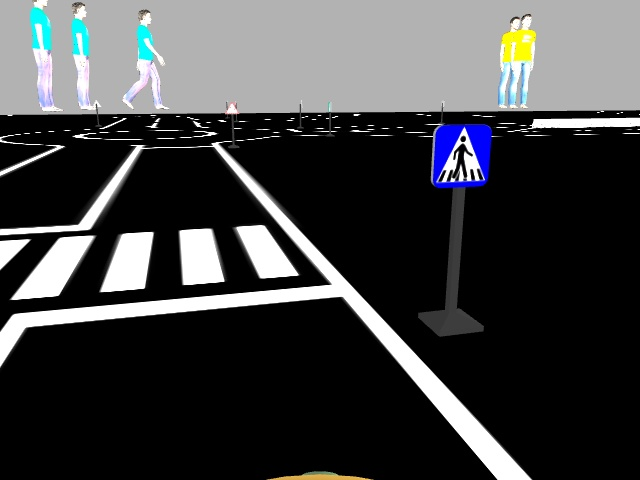Crosswalk: (428, 123, 494, 190)
